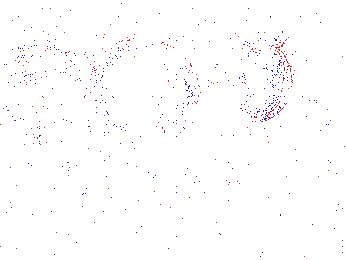moon jellyfish: (90, 38, 200, 135), (1, 45, 89, 106), (230, 45, 293, 123), (1, 74, 58, 153)
